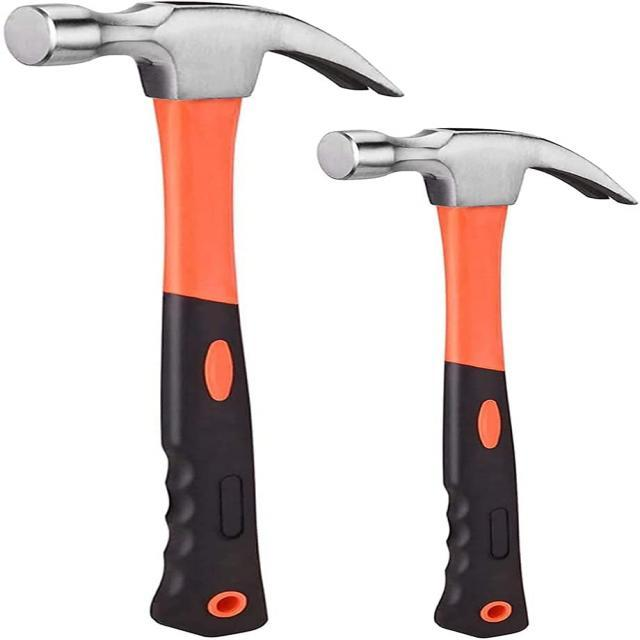hammer: (0, 0, 405, 640), (295, 107, 640, 640)
